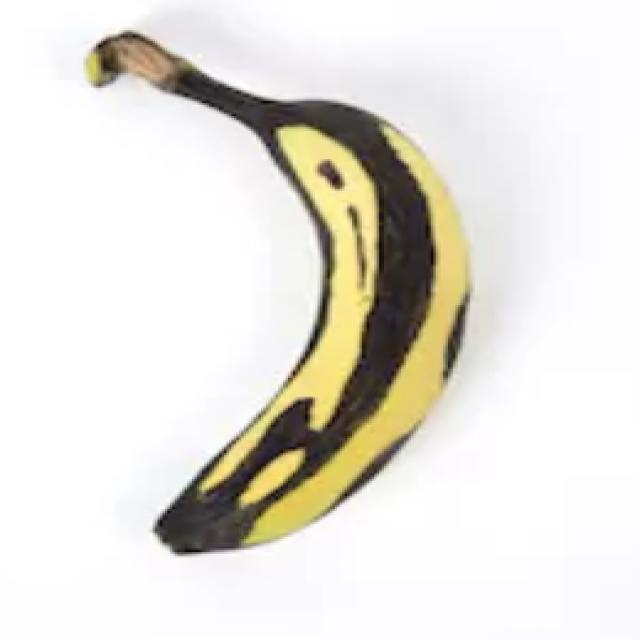rotten-banana: (83, 28, 534, 560)
